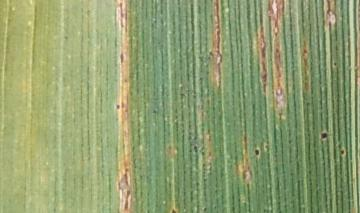tarspot: (320, 132, 328, 140), (192, 145, 199, 153), (254, 149, 259, 156), (339, 149, 344, 155), (115, 105, 120, 109), (171, 209, 176, 213)
